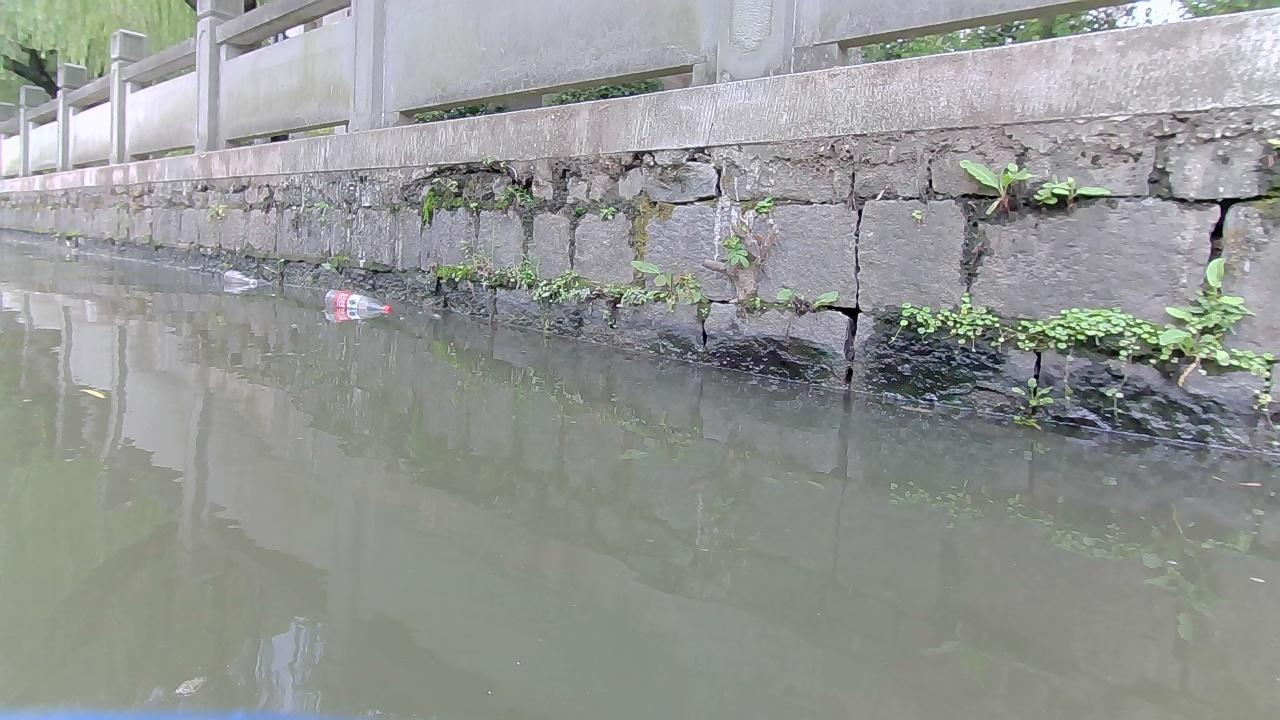bottle: (323, 289, 390, 312), (222, 269, 255, 285)
